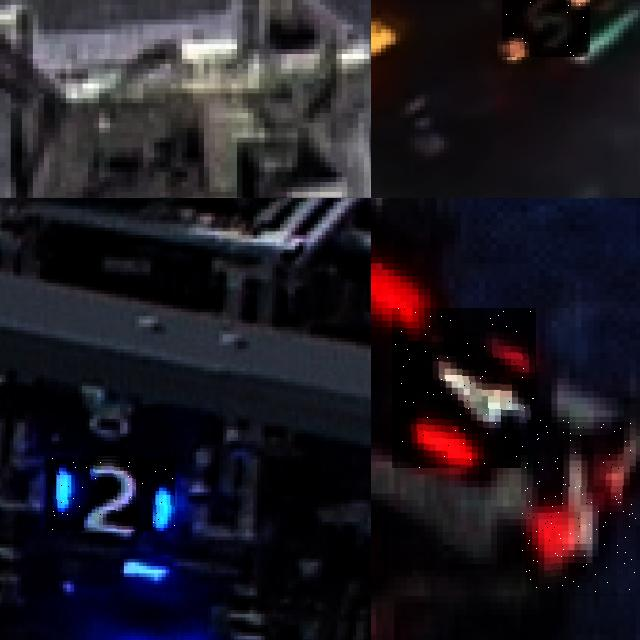B2: (46, 458, 175, 531)
R4: (392, 308, 536, 468), (521, 420, 636, 593)
R5: (502, 0, 589, 56)
